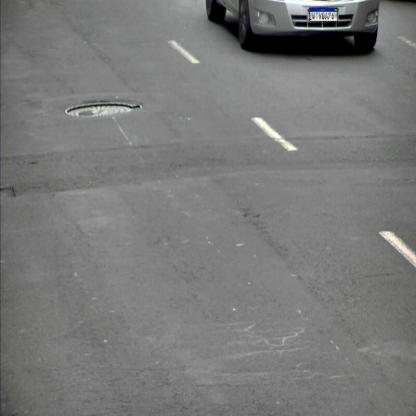PlacaM: (310, 8, 338, 22)
